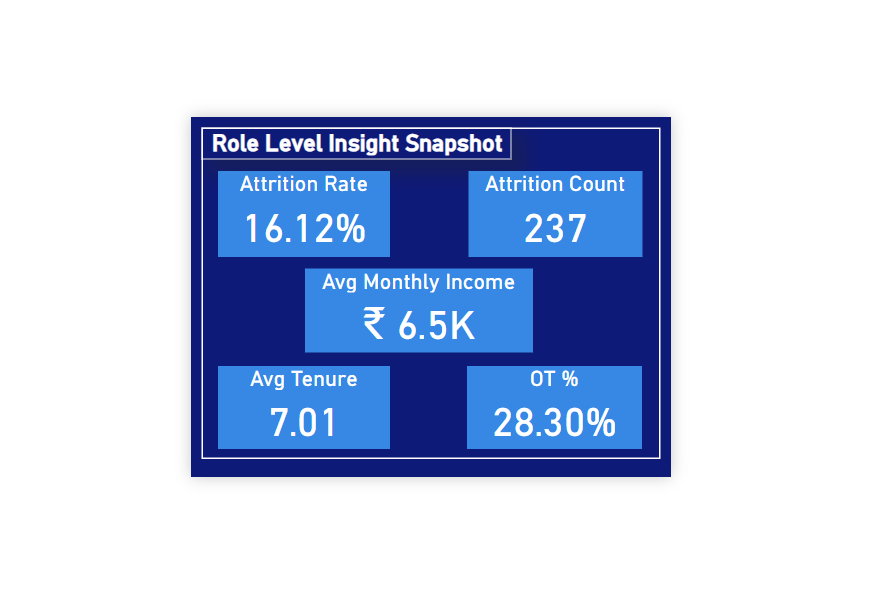

The page's visual inventory and layout, read from the dashboard file:
{"tool":"powerbi","page":{"name":"Tooltip_RoleDetail","canvas":[320,240],"ordinal":3},"visuals":[{"type":"textbox","title":"Role Level Insight Snapshot","box":[7,7,207,21],"z":0},{"type":"card","title":"Attrition Rate","fields":{"Values":["hr_attrition1.AttritionRate"]},"box":[18,36,115,57],"z":1000},{"type":"card","title":"Attrition Count","fields":{"Values":["hr_attrition1.AttritionCount"]},"box":[185,36,116,57],"z":2000},{"type":"card","title":"Avg Monthly Income","fields":{"Values":["hr_attrition1.AvgMonthlyIncome"]},"box":[76,101,152,56],"z":3000},{"type":"card","title":"Avg Tenure","fields":{"Values":["hr_attrition1.AvgTenure"]},"box":[18,166,115,55],"z":4000},{"type":"card","title":"OT %","fields":{"Values":["hr_attrition1.OTPercent"]},"box":[184,166,117,55],"z":5000},{"type":"shape","box":[7,7,306,221],"z":6000}]}

Visuals, with their boxes on the page's 320x240 design canvas (x1, y1, x2, y2). These are canvas units, not pixel positions in the 880x595 screenshot, which may show the page scaled, cropped or inside an application window:
"Role Level Insight Snapshot" textbox: x1=7, y1=7, x2=214, y2=28
"Attrition Rate" card: x1=18, y1=36, x2=133, y2=93
"Attrition Count" card: x1=185, y1=36, x2=301, y2=93
"Avg Monthly Income" card: x1=76, y1=101, x2=228, y2=157
"Avg Tenure" card: x1=18, y1=166, x2=133, y2=221
"OT %" card: x1=184, y1=166, x2=301, y2=221
shape: x1=7, y1=7, x2=313, y2=228
